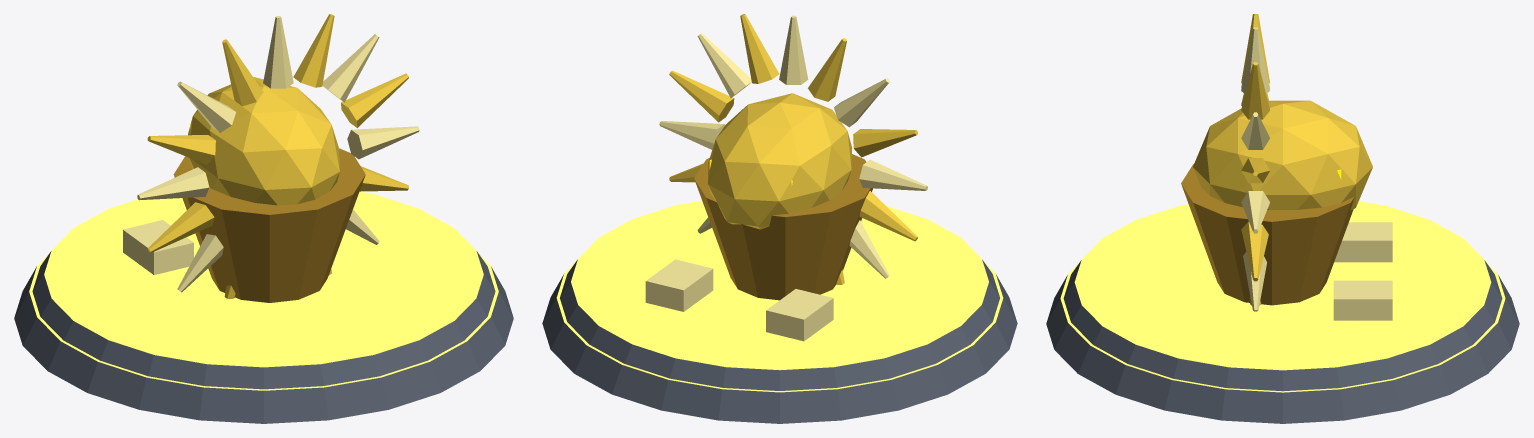
Rendered from solis_chimera.glb.
3 views of the same model, side by side, from view 1: azimuth 30°, elevation 25°; view 2: azimuth 150°, elevation 25°; view 3: azimuth 270°, elevation 25° (orthographic). The views are drawn at different scales.
Visible parts, largest first — view 1: GrandRunicPedestal, ChimeraChest, ChimeraHead, ChimeraPaw_L, ChimeraManeRay_3, ChimeraManeRay_1, ChimeraManeRay_4, ChimeraManeRay_0, ChimeraManeRay_8, ChimeraManeRay_2, ChimeraManeRay_9, ChimeraManeRay_5 (+5 smaller); view 2: GrandRunicPedestal, ChimeraHead, ChimeraChest, SolisTheSunChimera, ChimeraPaw_L, ChimeraManeRay_3, ChimeraManeRay_1, ChimeraManeRay_4, ChimeraManeRay_8, ChimeraManeRay_2, ChimeraManeRay_5, ChimeraManeRay_7 (+4 smaller); view 3: GrandRunicPedestal, ChimeraHead, ChimeraChest, SolisTheSunChimera, ChimeraPaw_L, ChimeraManeRay_3, ChimeraManeRay_15, ChimeraManeRay_4, ChimeraManeRay_0, ChimeraManeRay_2, ChimeraManeRay_14, ChimeraManeRay_1.
Boxes of the visible parts, left/top/right/bottom form: GrandRunicPedestal: left=14, top=191, right=513, bottom=423; ChimeraChest: left=173, top=148, right=365, bottom=302; ChimeraHead: left=188, top=77, right=339, bottom=205; ChimeraPaw_L: left=123, top=220, right=193, bottom=274; ChimeraManeRay_3: left=293, top=14, right=334, bottom=87; ChimeraManeRay_1: left=341, top=73, right=408, bottom=127; ChimeraManeRay_4: left=263, top=16, right=293, bottom=88; ChimeraManeRay_0: left=347, top=126, right=419, bottom=159; ChimeraManeRay_8: left=137, top=167, right=209, bottom=200; ChimeraManeRay_2: left=322, top=34, right=379, bottom=102; ChimeraManeRay_9: left=147, top=202, right=214, bottom=252; ChimeraManeRay_5: left=222, top=39, right=263, bottom=106; GrandRunicPedestal: left=542, top=200, right=1017, bottom=423; ChimeraHead: left=707, top=93, right=852, bottom=229; ChimeraChest: left=694, top=154, right=872, bottom=300; SolisTheSunChimera: left=645, top=259, right=713, bottom=311; ChimeraPaw_L: left=766, top=289, right=833, bottom=341; ChimeraManeRay_3: left=740, top=14, right=779, bottom=83; ChimeraManeRay_1: left=669, top=70, right=734, bottom=122; ChimeraManeRay_4: left=779, top=15, right=808, bottom=84; ChimeraManeRay_8: left=859, top=159, right=927, bottom=190; ChimeraManeRay_2: left=697, top=33, right=751, bottom=97; ChimeraManeRay_5: left=808, top=38, right=846, bottom=101; ChimeraManeRay_7: left=853, top=129, right=917, bottom=157; GrandRunicPedestal: left=1046, top=201, right=1519, bottom=423; ChimeraHead: left=1193, top=100, right=1372, bottom=210; ChimeraChest: left=1181, top=164, right=1354, bottom=305; SolisTheSunChimera: left=1333, top=280, right=1392, bottom=320; ChimeraPaw_L: left=1334, top=222, right=1392, bottom=262; ChimeraManeRay_3: left=1241, top=62, right=1269, bottom=119; ChimeraManeRay_15: left=1241, top=221, right=1268, bottom=281; ChimeraManeRay_4: left=1241, top=27, right=1269, bottom=93; ChimeraManeRay_0: left=1241, top=191, right=1269, bottom=233; ChimeraManeRay_2: left=1241, top=112, right=1269, bottom=149; ChimeraManeRay_14: left=1243, top=252, right=1266, bottom=311; ChimeraManeRay_1: left=1241, top=158, right=1269, bottom=183.
Size of the model in its own units: 2.6 by 1.79 by 2.6.
